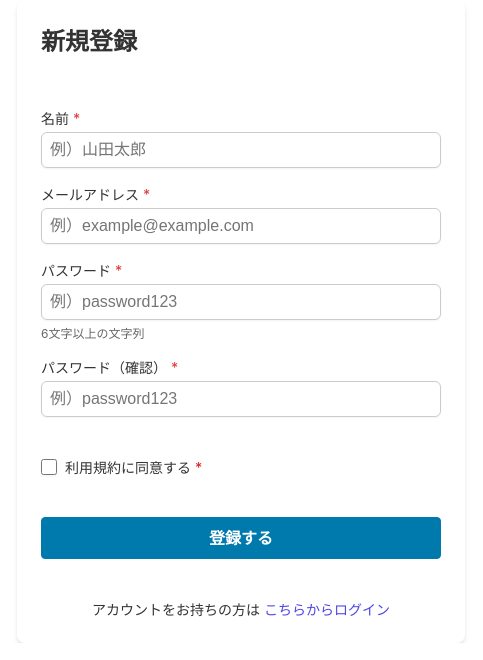
Test: RegisterForm › フォーム送信 › 送信中はボタンのテキストが変更されて非活性になること
This screenshot has width=483, height=660.
In the field labelled "名前*": (241, 150) [41, 132, 441, 168], type "テスト太郎"
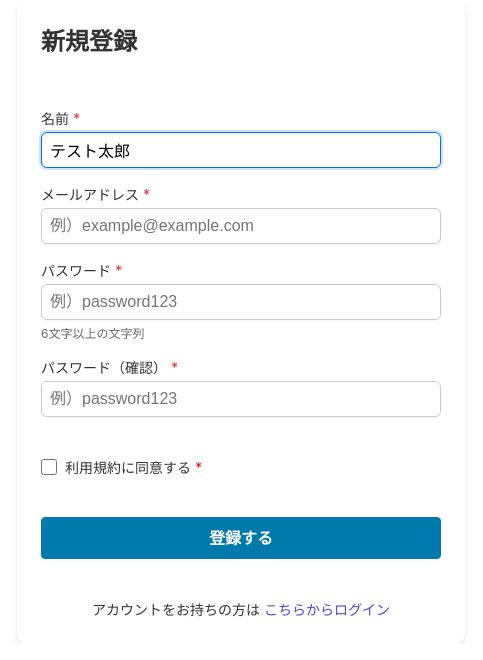
In the field labelled "メールアドレス*": (241, 226) [41, 208, 441, 244], type "test@example.com"
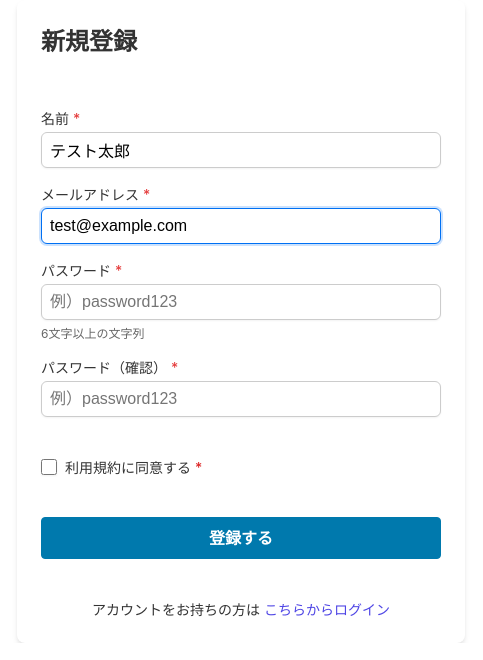
In the password field labelled "パスワード*": (241, 302) [41, 284, 441, 320], type "password123"
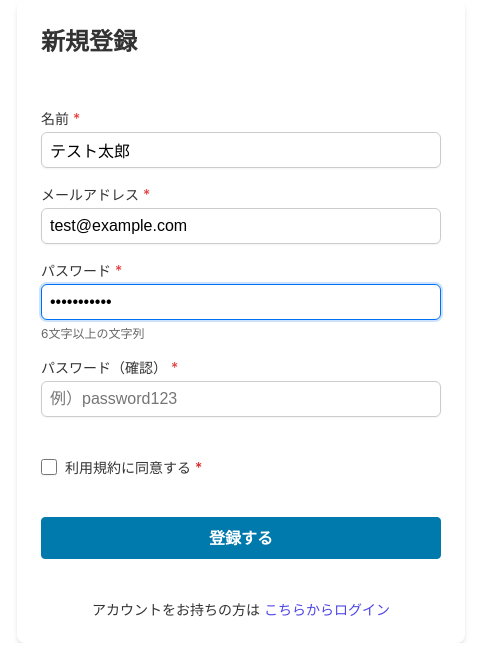
In the password field labelled "パスワード（確認）*": (241, 399) [41, 381, 441, 417], type "password123"
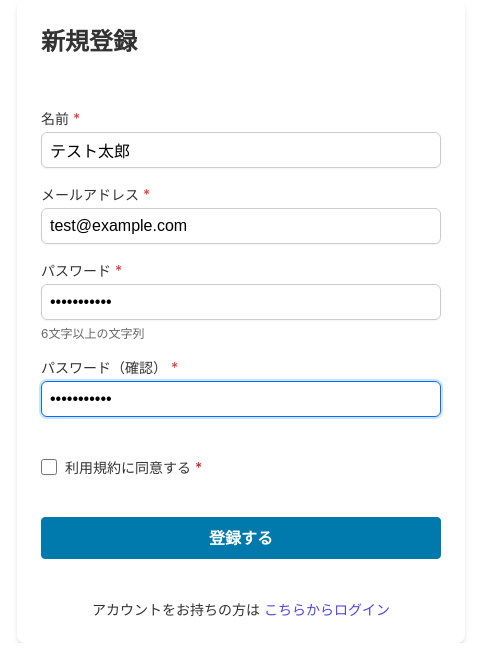
Click the checkbox labelled "利用規約に同意する*": (49, 467) [41, 459, 57, 475]
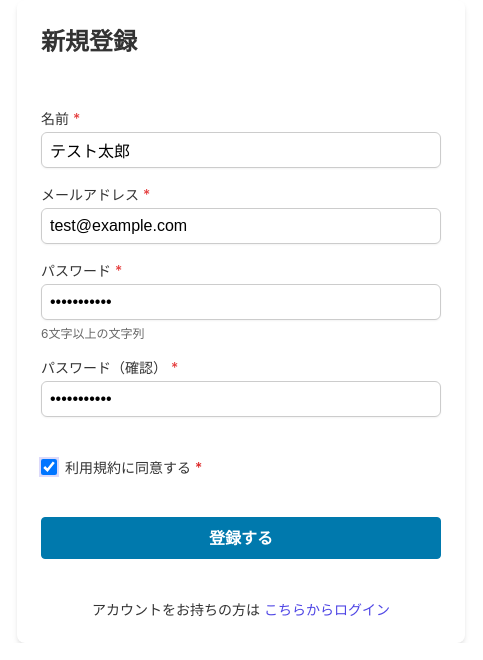
Click the button "登録する": (241, 538) [41, 517, 441, 559]
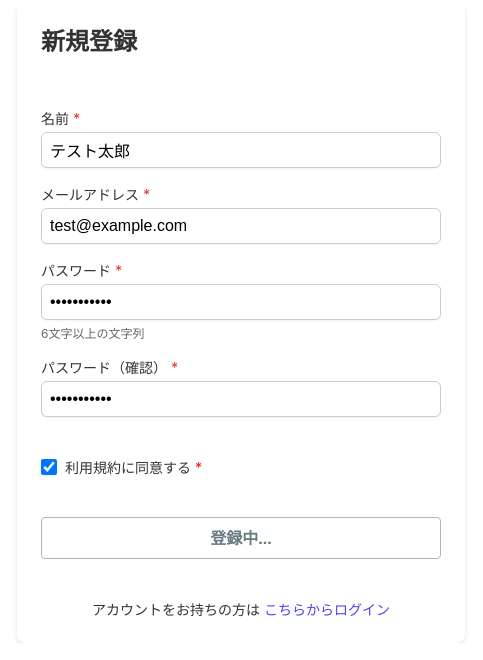
Result: the button reads "登録中..." at [41, 517, 441, 559]
Result: the button is disabled at [41, 517, 441, 559]
